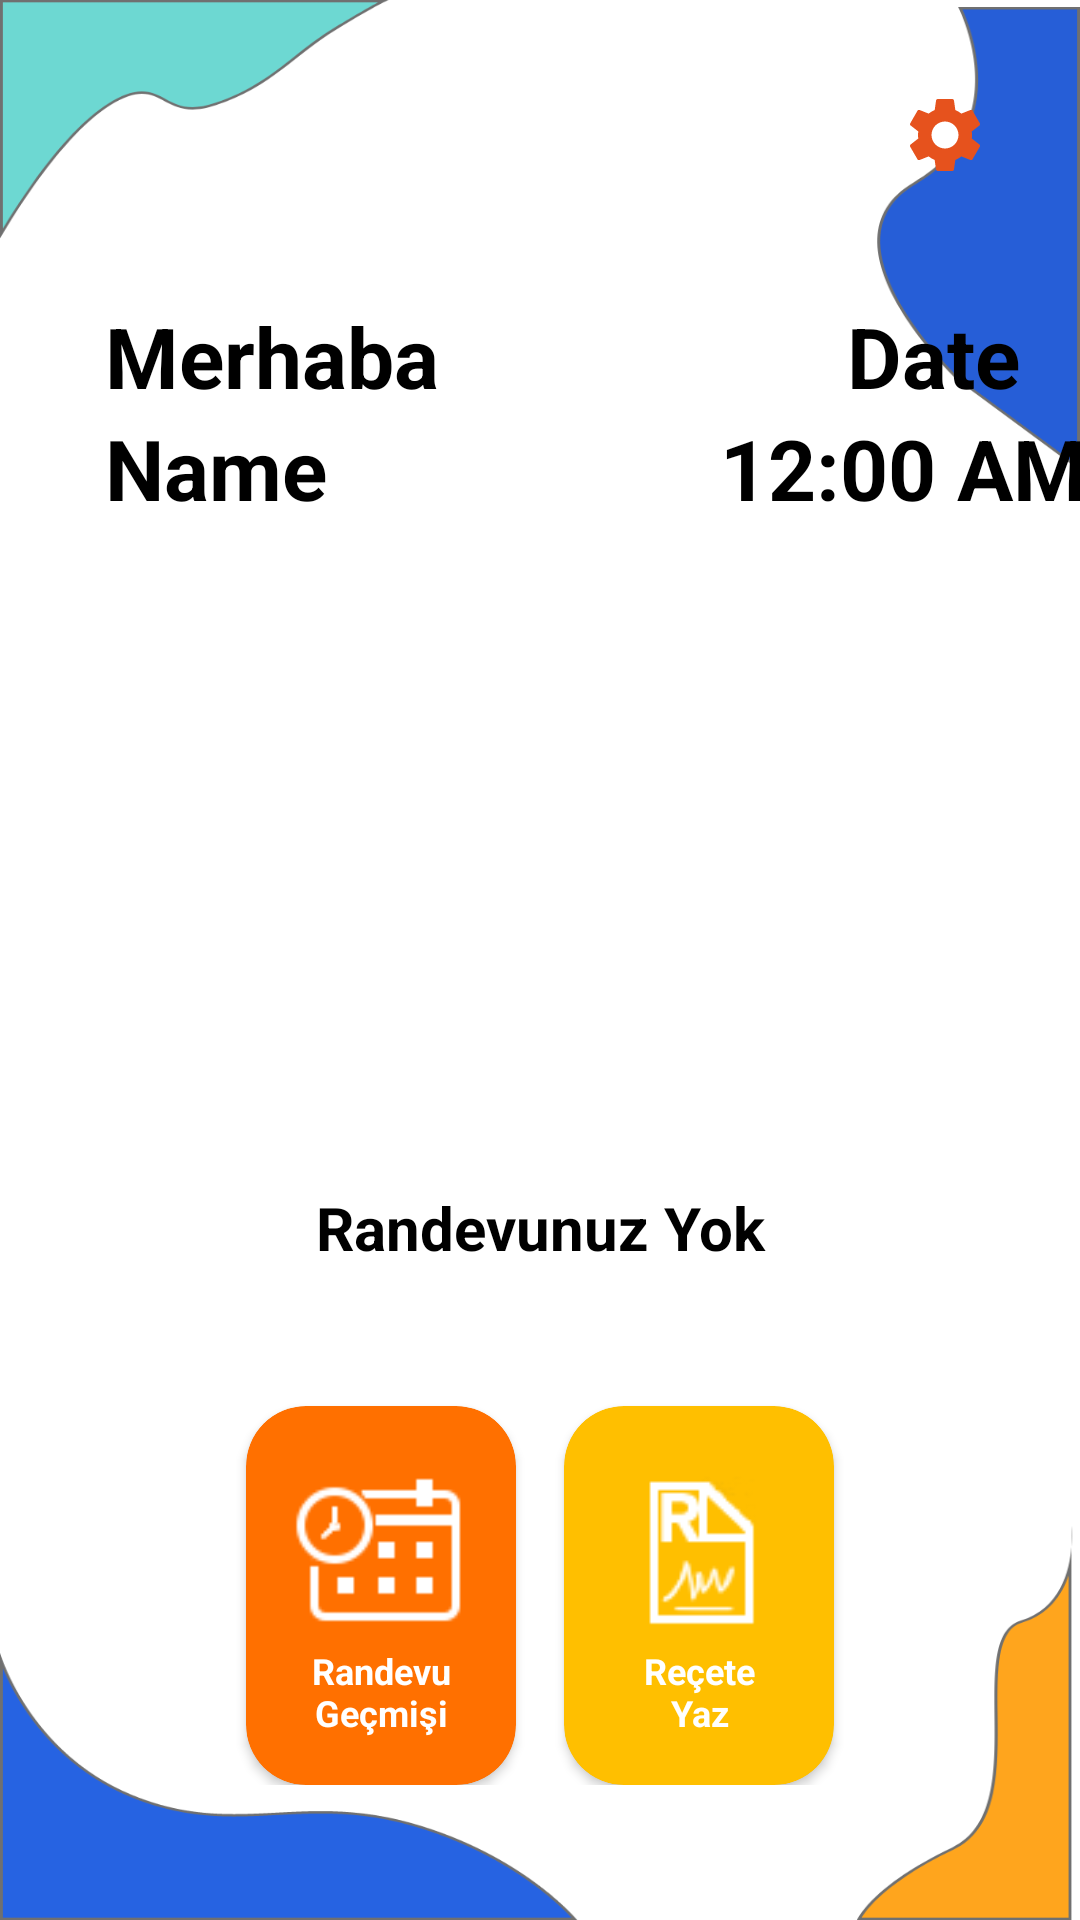

Icon click points for this 1080×1920 phone screenshot, format (x=x, y=y):
settings: (x=945, y=135)
